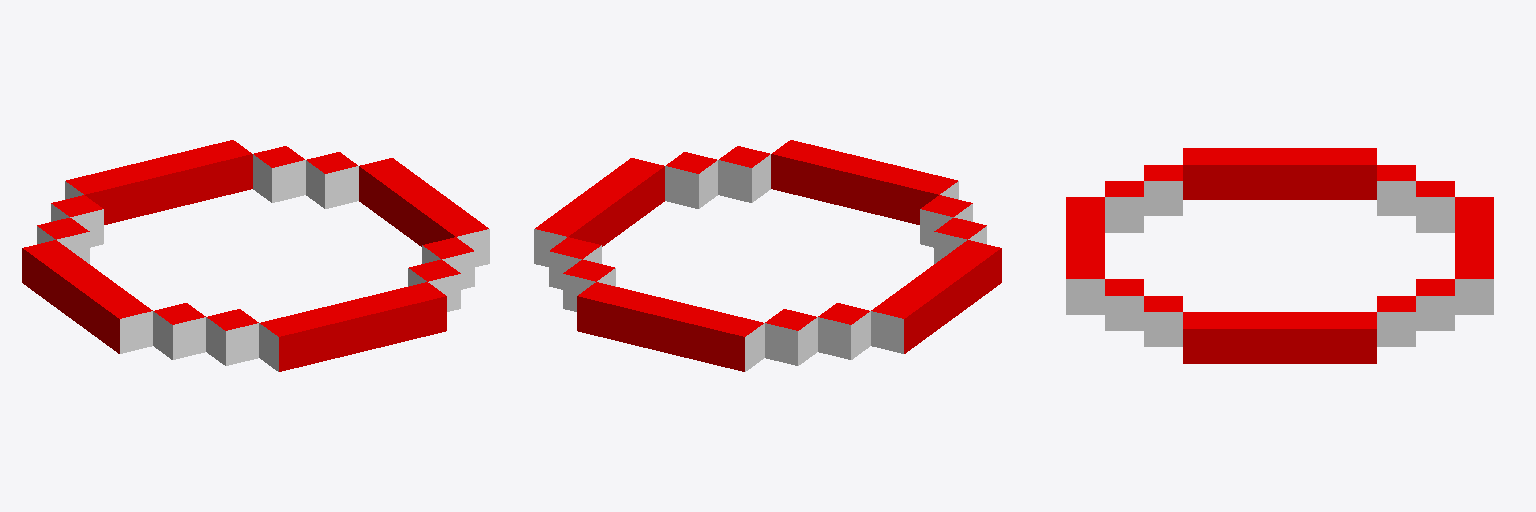
Rendered from RingPlayer1.obj.
3 renders of one model, left to right at view 1: azimuth 30°, elevation 25°; view 2: azimuth 150°, elevation 25°; view 3: azimuth 270°, elevation 25°, orthographic.
Parts seen in each view (by area): view 1: pCube38 RingFinalPlayer1; view 2: pCube38 RingFinalPlayer1; view 3: pCube38 RingFinalPlayer1.
Part boxes in pixels (x1,y1,x2,y2): pCube38 RingFinalPlayer1: (22, 140, 489, 371); pCube38 RingFinalPlayer1: (534, 140, 1001, 371); pCube38 RingFinalPlayer1: (1066, 148, 1493, 363).
Bounding box in the file's own units: 1.1 × 0.1 × 1.1.